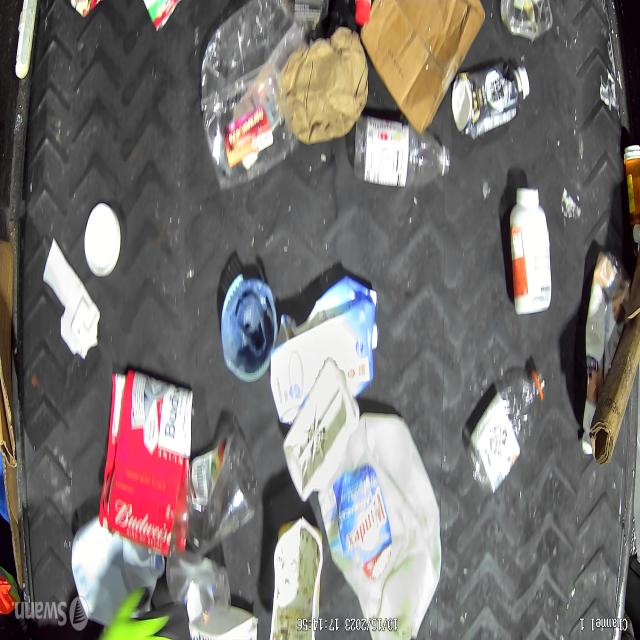milk_jug: (321, 412, 443, 640), (70, 510, 162, 628)
plastic_bottle: (465, 364, 544, 493), (348, 118, 451, 190)
